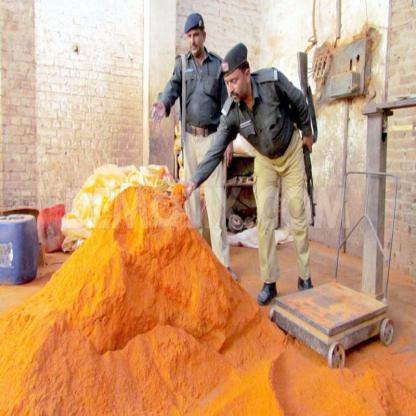face: (225, 64, 247, 102), (188, 27, 204, 55)
